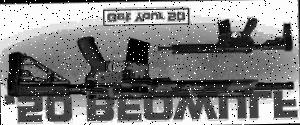rifle: (4, 28, 297, 107), (149, 7, 297, 58)
